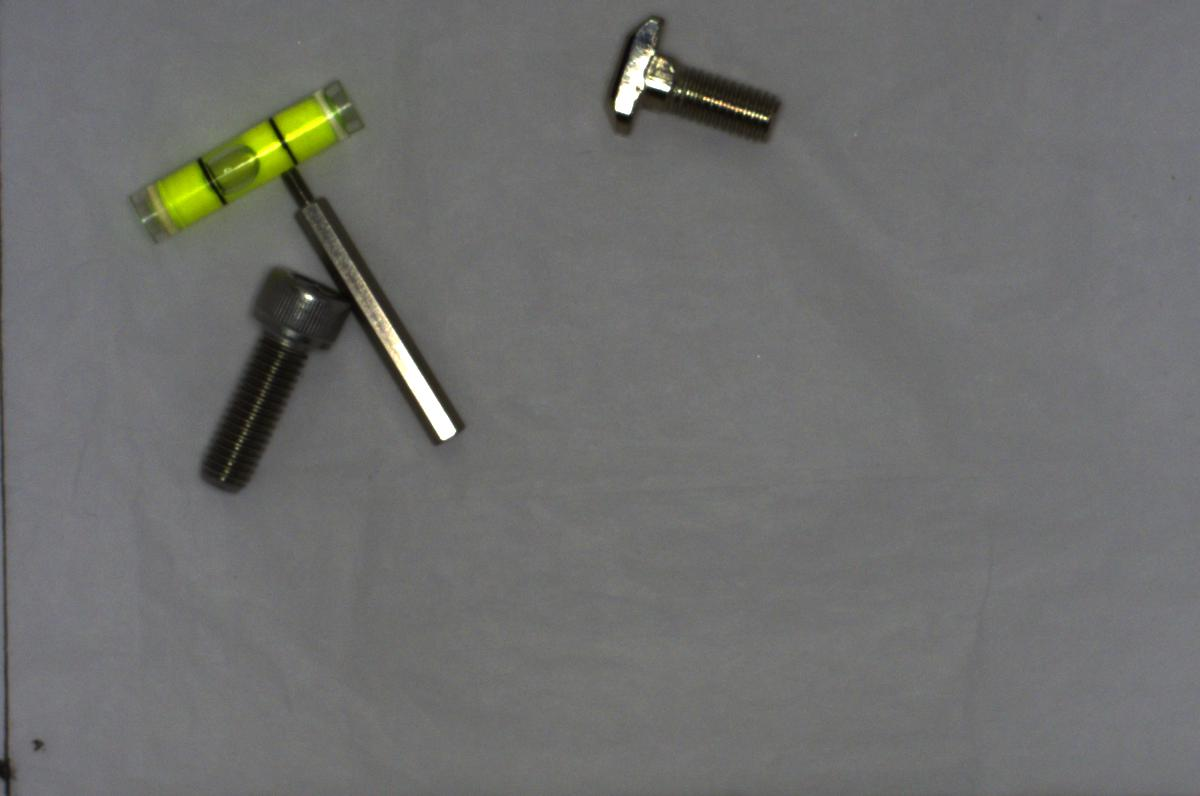Hexagon screw: (193, 265, 345, 494)
Hexagonal steel column: (278, 169, 461, 453)
Horizontal bubble: (117, 76, 370, 240)
T-shaped screw: (581, 8, 791, 141)
